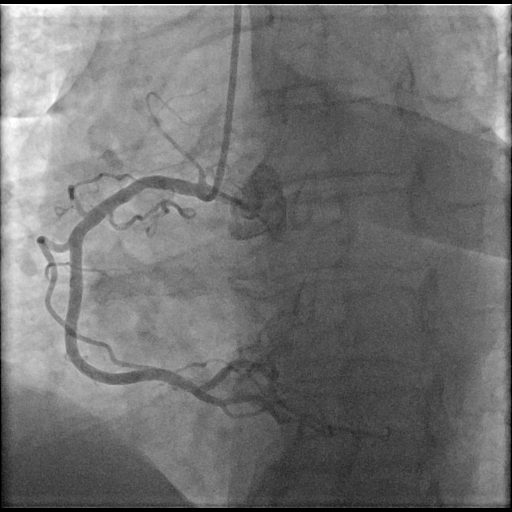RCA: (36, 163, 290, 425)
catherter: (198, 4, 241, 202)
